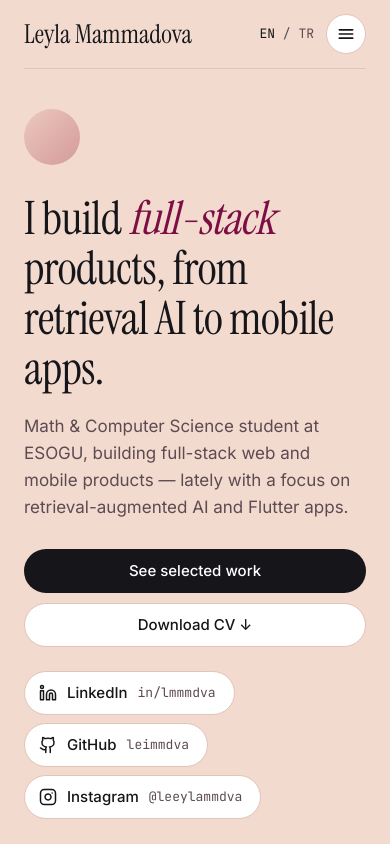
it: Home › opens and closes the mobile menu
This screenshot has width=390, height=844.
expect the heading is shown: met, box [24, 193, 366, 393]
Step 1. Click the button named "Open menu" → (346, 34), box [326, 14, 366, 54]
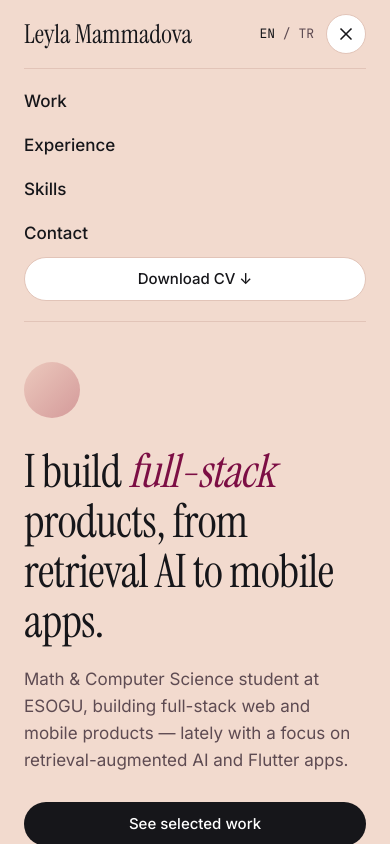
Step 2. Click the link "Work" → (45, 101), box [24, 91, 67, 111]
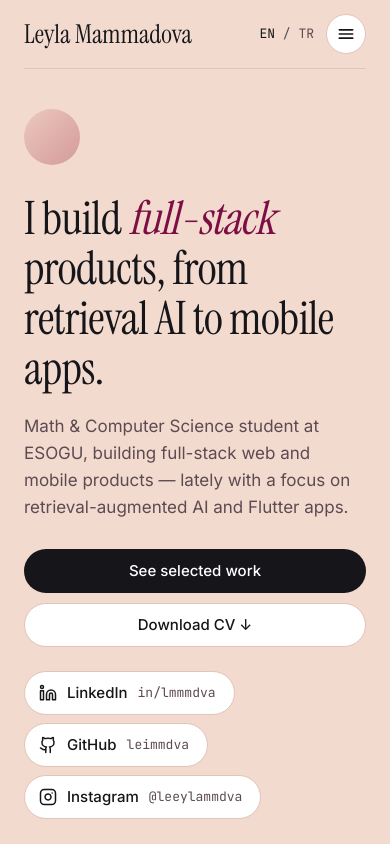
expect the button named "Open menu" is collapsed: met, box [326, 14, 366, 54]
